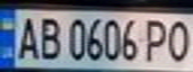0: (63, 15, 87, 61), (103, 16, 124, 62)
6: (121, 16, 145, 63), (84, 16, 106, 62)
A: (12, 14, 42, 61)
B: (36, 14, 63, 61)
O: (163, 17, 193, 63)
P: (142, 16, 172, 63)
